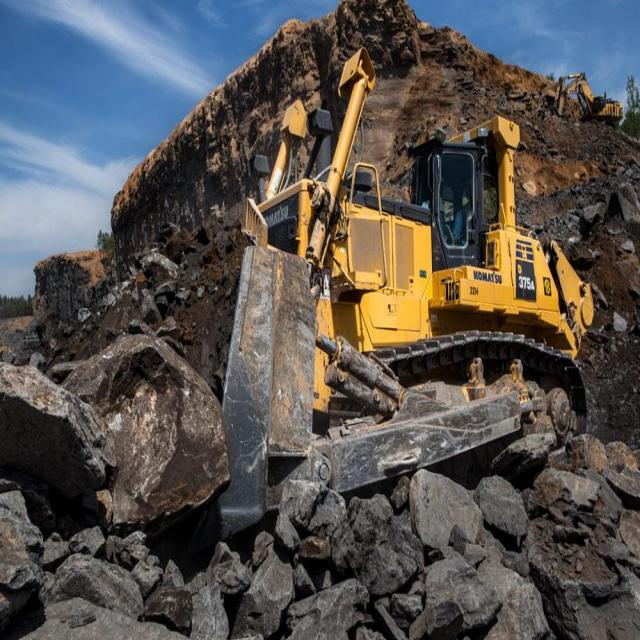Bulldozer: (140, 36, 610, 554)
